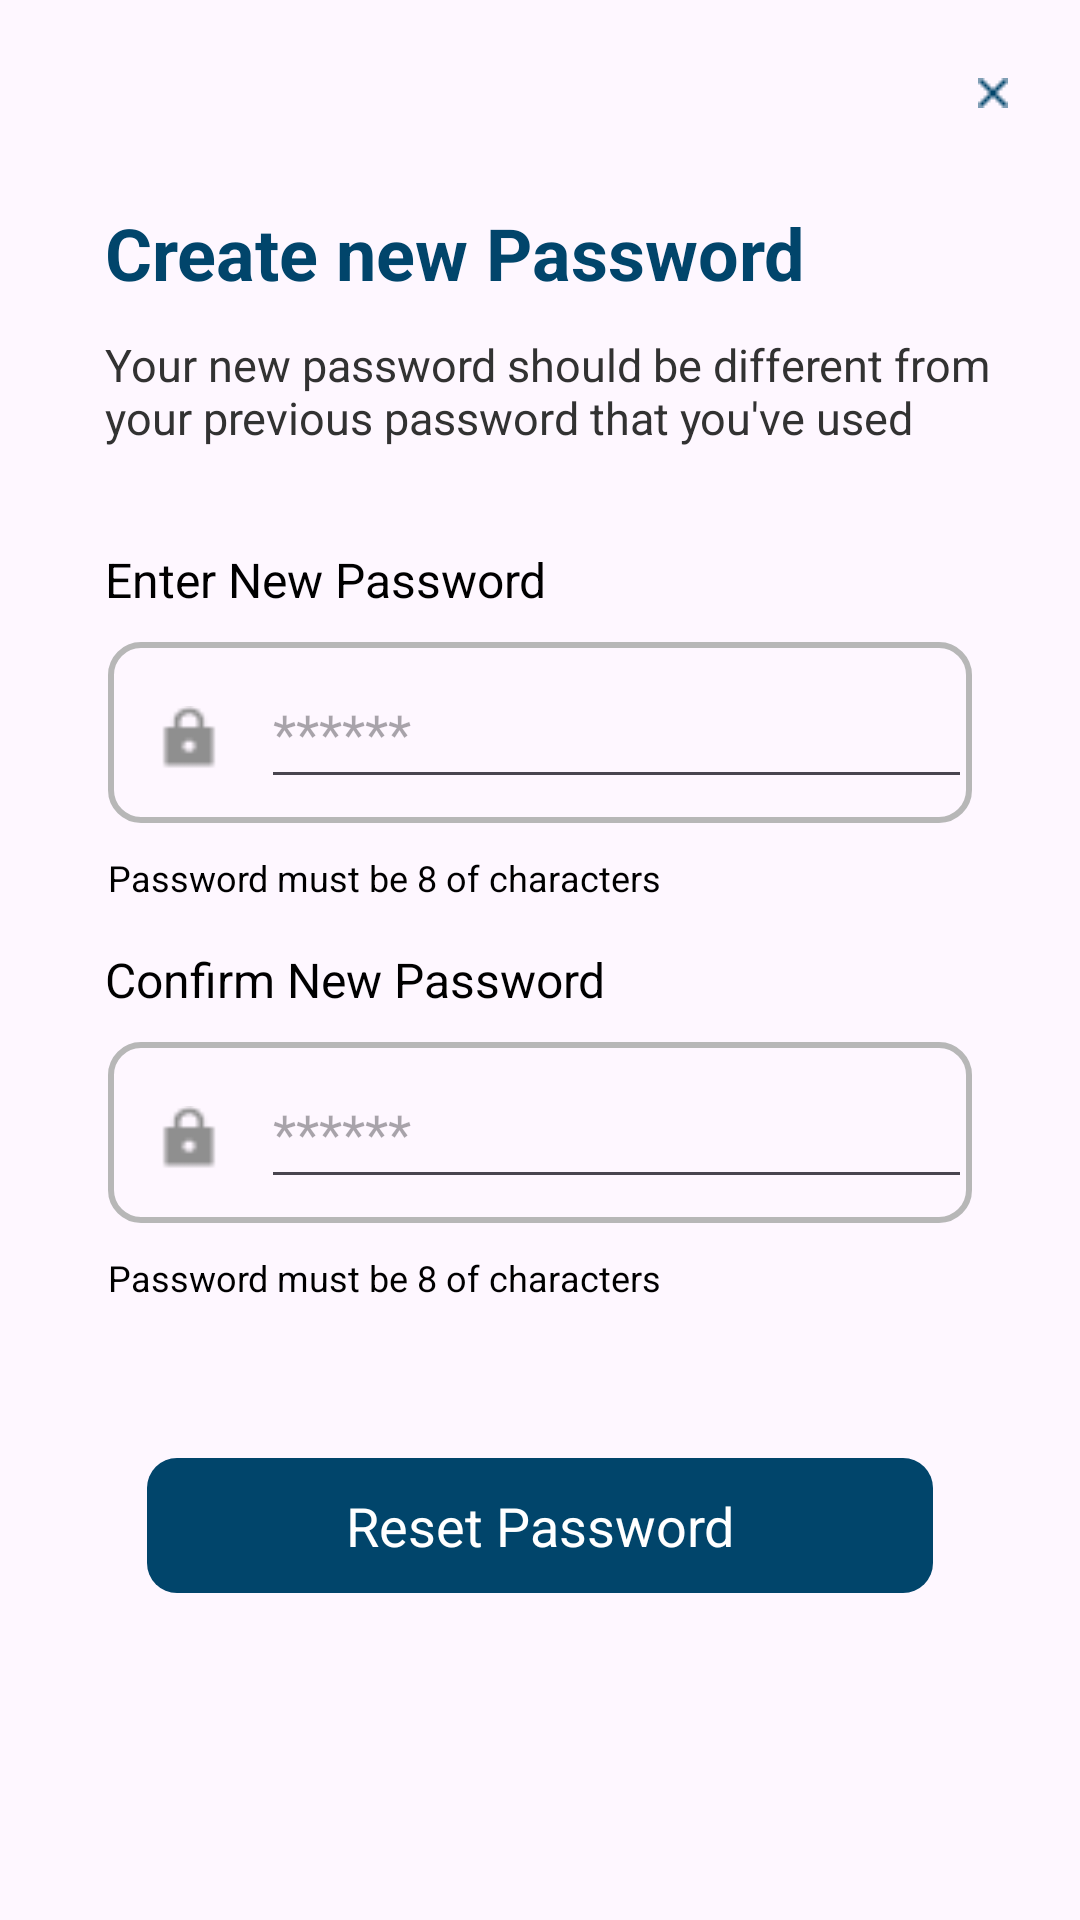

Screen size 1080x1920. Icon name, then its center in pixels as (x,y):
cancel: (993,93)
lock: (189,736), (189,1136)
